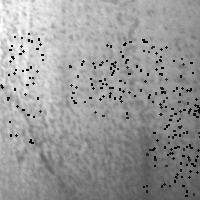pitted_surface: (8, 13, 195, 197), (69, 59, 128, 117), (106, 39, 165, 95), (148, 89, 200, 149), (143, 147, 196, 200), (0, 28, 42, 88), (159, 58, 200, 118), (0, 82, 39, 142), (169, 110, 200, 170)
